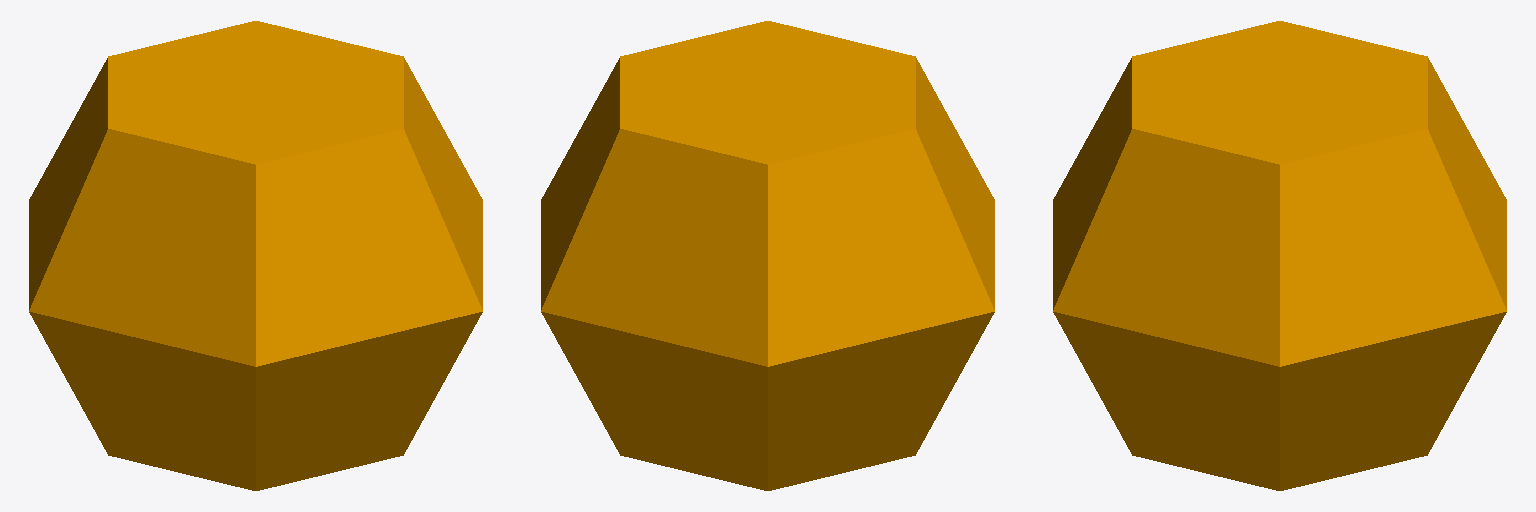
URDF robot description (cranberry):
<?xml version="1.0"?>
<robot name="cranberry">
  <link name="cranberry">
    <inertial>
        <origin rpy="0 0 0" xyz="0 0 0"/>
        <mass value="0.001"/>
        <inertia ixx="2e-5" ixy="0" ixz="0" iyy="2e-5" iyz="0" izz="2e-5"/>
    </inertial>
    <visual>
      <geometry>
        <mesh filename="Cranberry.obj"/>
      </geometry>
    </visual>
    <collision>
      <geometry>
        <mesh filename="Cranberry.obj"/>
      </geometry>
    </collision>
  </link>
</robot>

--- What the picture shows (computed from the rendered views, not written in the file) ---
Views: 3 orthographic renders of the robot side by side, from view 1: azimuth 30°, elevation 25°; view 2: azimuth 150°, elevation 25°; view 3: azimuth 270°, elevation 25°.
Model cranberry with 1 links and 0 joints (none), rooted at cranberry, posed every joint at zero.
Visible links, largest first — view 1: cranberry; view 2: cranberry; view 3: cranberry.
Boxes of the visible links, x1,y1,x2,y2 form: cranberry: (29,21,482,490); cranberry: (541,21,994,490); cranberry: (1053,21,1506,490).
Bounding box of the posed robot: 0.044 × 0.0381 × 0.0302 m (x, y, z).
1 mesh visuals loaded from 1 distinct referenced files (1 OBJ).
